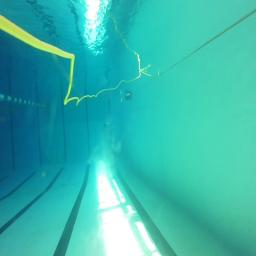Full: (125, 93, 131, 99), (104, 122, 110, 126)
